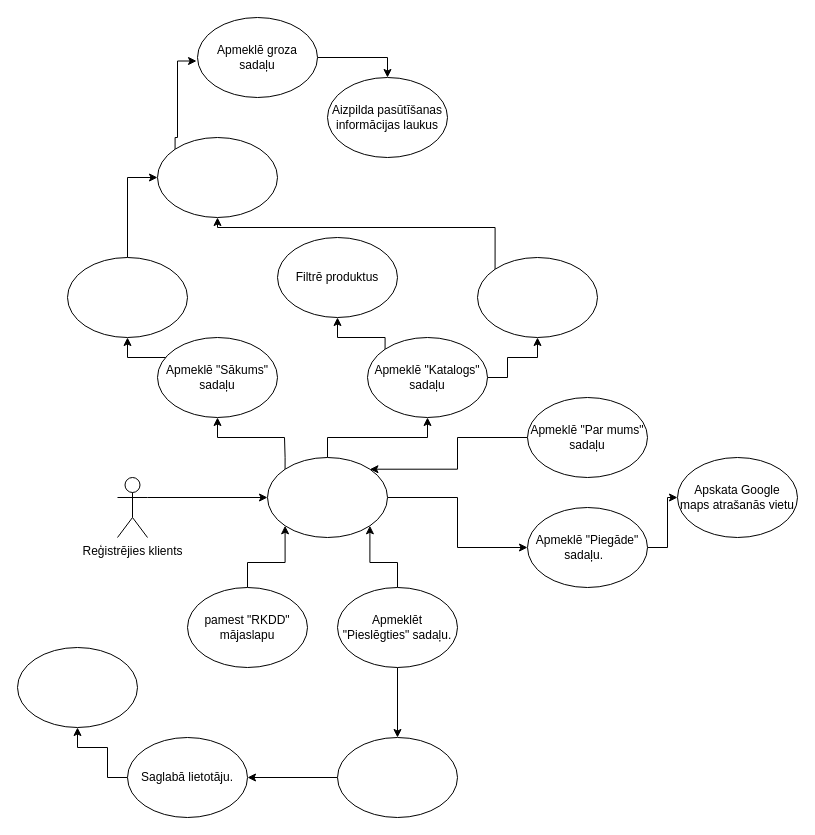
This 815x835 diagram has some shape labels left out. Each missing label, with the centre of its shape:
Aplūko "Jaunumi" un "Karstākie piedāvājumi": (x=127, y=297)
Aplūko produktus kas pieejami nopliktavā: (x=537, y=297)
Apmeklē "Neesi reģistrējies?" sadaļu: (x=397, y=777)
Apmeklē "RKDD" Mājaslapu: (x=327, y=497)
dodas atpakaļ uz "Pieslēgties": (x=77, y=687)
Klikšķis uz "Pirkt" Pogu: (x=217, y=177)
